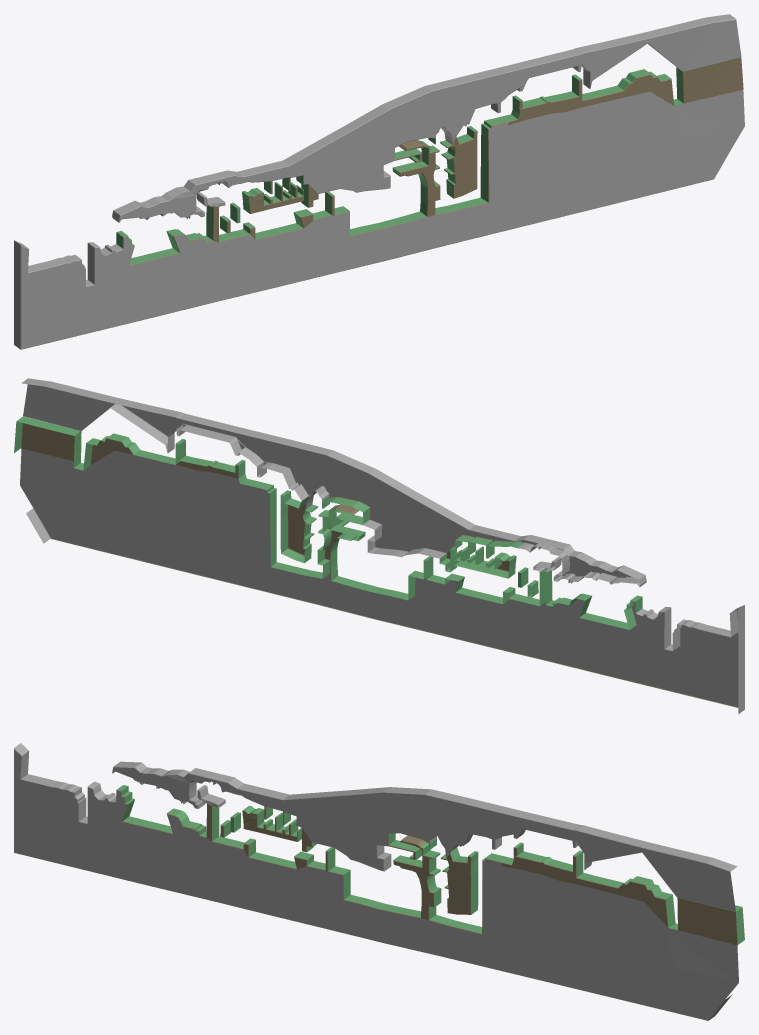
File: FinalLevel_GreyBox.fbx
3 renders of one model, top to bottom at view 1: azimuth 30°, elevation 25°; view 2: azimuth 150°, elevation 25°; view 3: azimuth 330°, elevation 25°, orthographic.
Visible parts, largest first — view 1: FinalLevel_Mesh4:FinalLevel_Greybox_Feb7:FinalLevel_Mesh2:Fi; view 2: FinalLevel_Mesh4:FinalLevel_Greybox_Feb7:FinalLevel_Mesh2:Fi; view 3: FinalLevel_Mesh4:FinalLevel_Greybox_Feb7:FinalLevel_Mesh2:Fi.
Part boxes in pixels (x1,y1,x2,y2): FinalLevel_Mesh4:FinalLevel_Greybox_Feb7:FinalLevel_Mesh2:Fi: [14, 14, 744, 349]; FinalLevel_Mesh4:FinalLevel_Greybox_Feb7:FinalLevel_Mesh2:Fi: [14, 378, 744, 714]; FinalLevel_Mesh4:FinalLevel_Greybox_Feb7:FinalLevel_Mesh2:Fi: [14, 743, 744, 1020].
Bounding box in the file's own units: 593 × 125 × 10.44.
